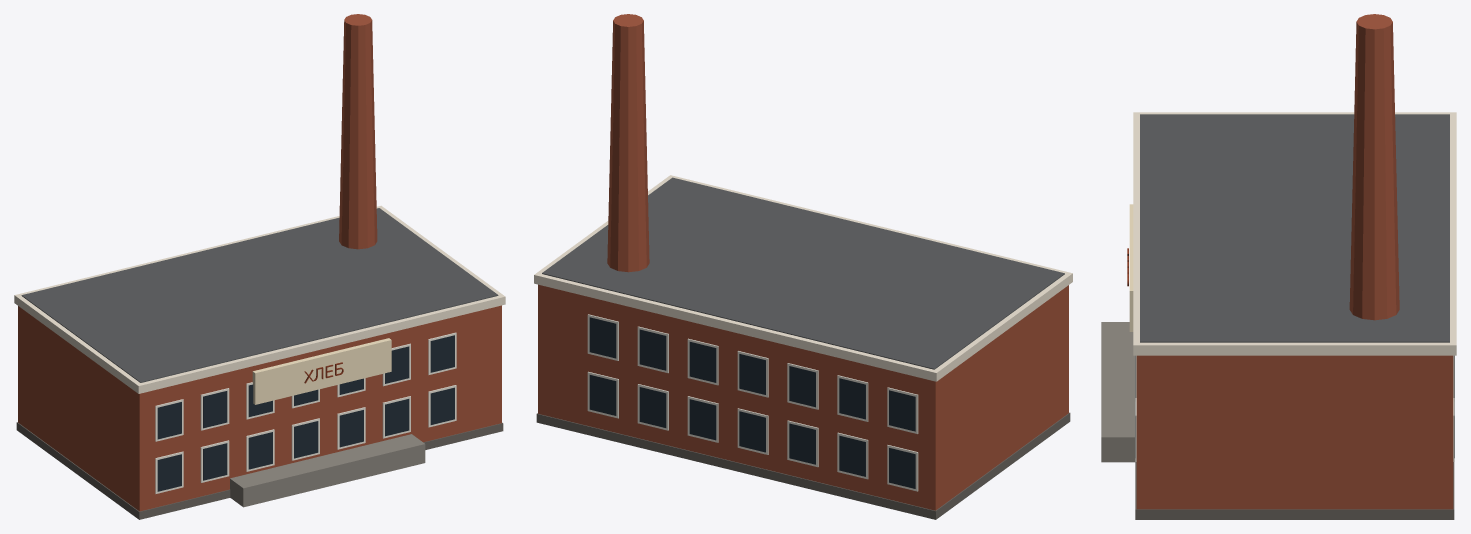
The model's file is bakery.glb.
3 views of the same model, side by side, from view 1: azimuth 30°, elevation 25°; view 2: azimuth 150°, elevation 25°; view 3: azimuth 270°, elevation 25° (orthographic). The views are drawn at different scales.
Visible parts, largest first — view 1: bakery; view 2: bakery; view 3: bakery.
Boxes of the visible parts, x1,y1,x2,y2 form: bakery: (14,14,505,519); bakery: (534,14,1072,519); bakery: (1101,14,1456,519).
Bounding box in the file's own units: 24.2 × 22.5 × 15.6.
